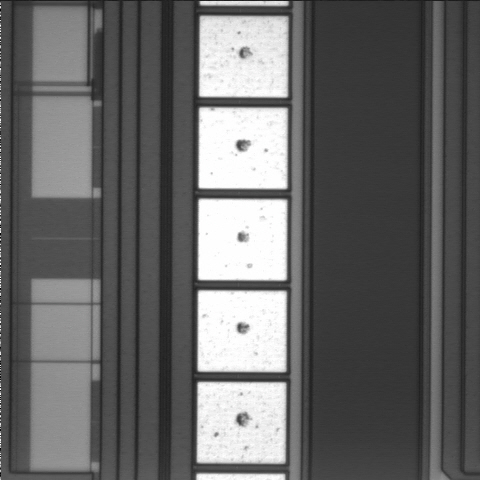pad: (199, 107, 288, 189), (198, 199, 287, 281), (198, 290, 287, 372), (197, 382, 286, 464), (199, 16, 288, 97)
